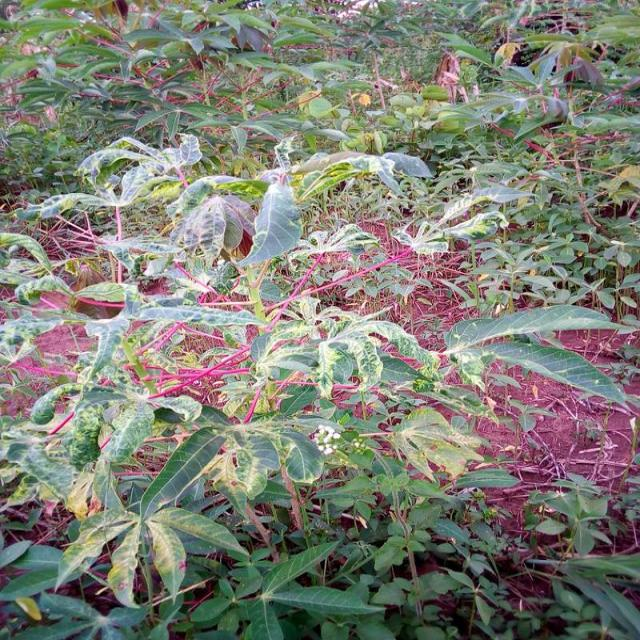cassava leaf: (1, 126, 638, 635), (237, 173, 304, 268)
